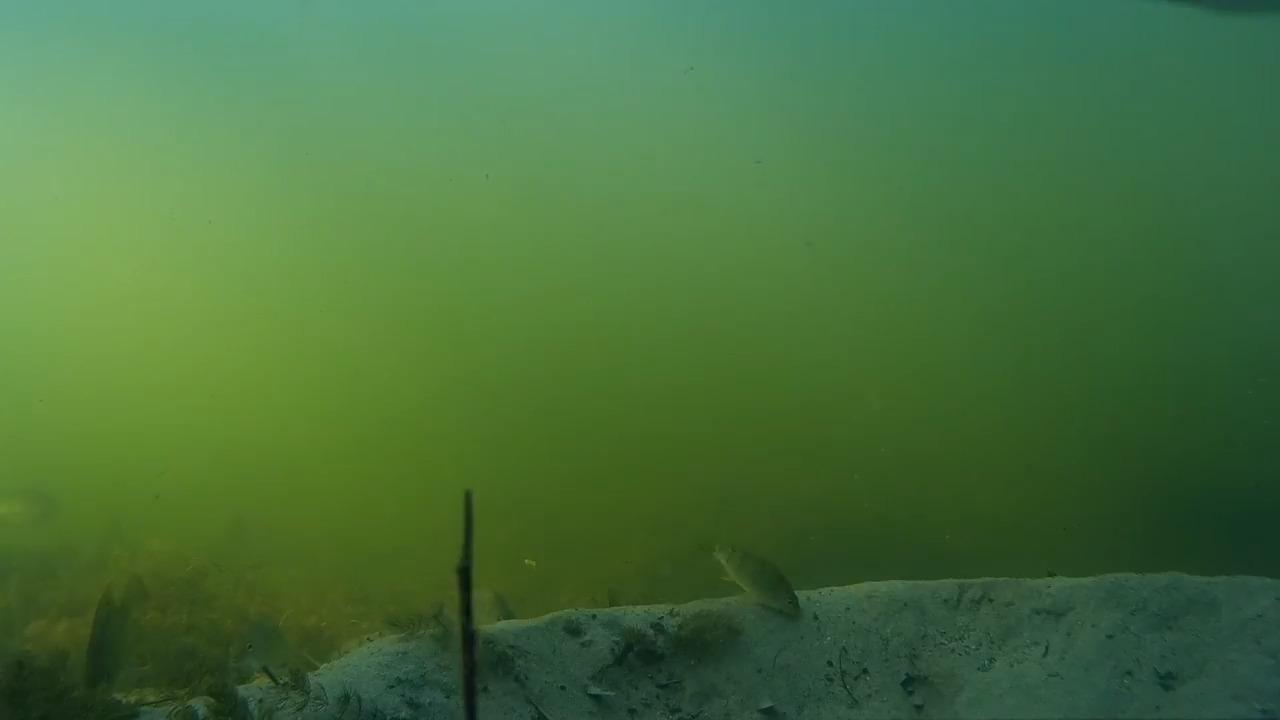Tilapia: (671, 539, 847, 640), (61, 566, 175, 714)
